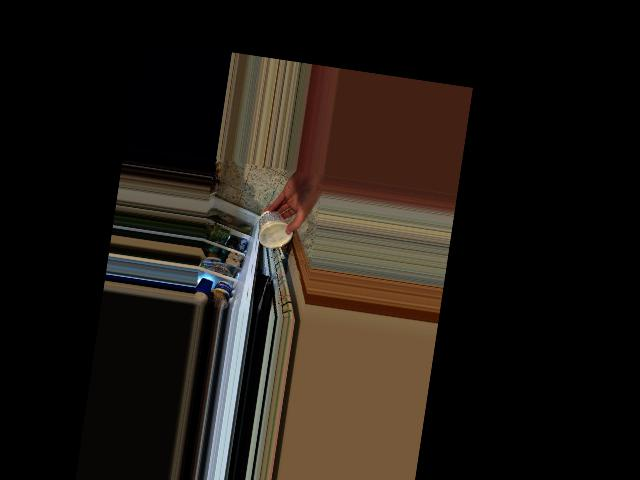cotage: (256, 206, 300, 250)
